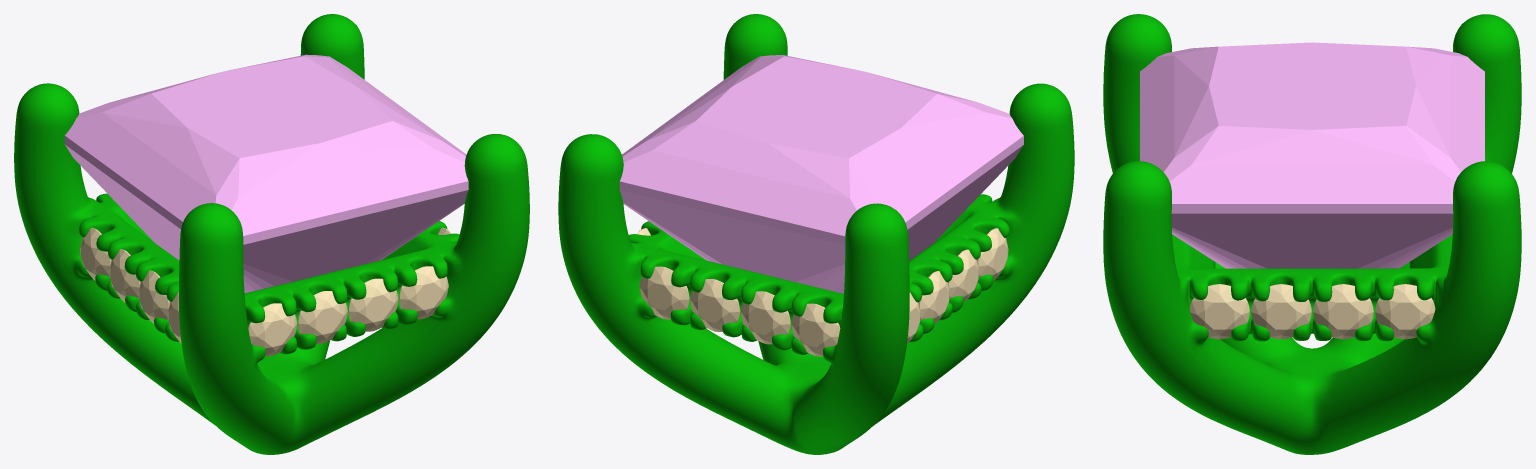
3 renders of one model, left to right at view 1: azimuth 30°, elevation 25°; view 2: azimuth 150°, elevation 25°; view 3: azimuth 270°, elevation 25°, orthographic. The views are drawn at different scales.
Visible parts, largest first — view 1: Metal01, Diamond_Princess, Diamond_Round.003, Diamond_Round.004, Diamond_Round.002, Diamond_Round.001, Diamond_Round.012, Diamond_Round.014, Diamond_Round.013; view 2: Metal01, Diamond_Princess, Diamond_Round, Diamond_Round.006, Diamond_Round.005, Diamond_Round.007, Diamond_Round.013, Diamond_Round.015, Diamond_Round.014; view 3: Metal01, Diamond_Princess, Diamond_Round.010, Diamond_Round.009, Diamond_Round.011, Diamond_Round.008.
Boxes of the visible parts, box(x1,y1,x2,y2) form: Metal01: box(14, 14, 529, 454); Diamond_Princess: box(64, 54, 468, 293); Diamond_Round.003: box(348, 278, 398, 331); Diamond_Round.004: box(398, 266, 448, 319); Diamond_Round.002: box(297, 291, 347, 343); Diamond_Round.001: box(248, 303, 296, 356); Diamond_Round.012: box(80, 228, 111, 280); Diamond_Round.014: box(138, 270, 169, 323); Diamond_Round.013: box(109, 249, 140, 302); Metal01: box(558, 14, 1074, 454); Diamond_Princess: box(619, 55, 1023, 293); Diamond_Round: box(740, 291, 790, 344); Diamond_Round.006: box(690, 279, 740, 331); Diamond_Round.005: box(639, 266, 689, 319); Diamond_Round.007: box(791, 303, 840, 356); Diamond_Round.013: box(918, 271, 949, 324); Diamond_Round.015: box(977, 228, 1008, 280); Diamond_Round.014: box(948, 249, 979, 302); Metal01: box(1103, 14, 1521, 454); Diamond_Princess: box(1140, 42, 1484, 268); Diamond_Round.010: box(1313, 284, 1373, 339); Diamond_Round.009: box(1251, 284, 1311, 339); Diamond_Round.011: box(1375, 284, 1435, 339); Diamond_Round.008: box(1189, 284, 1249, 339).
Bounding box in the file's own units: 7.65 × 7.28 × 7.64.
